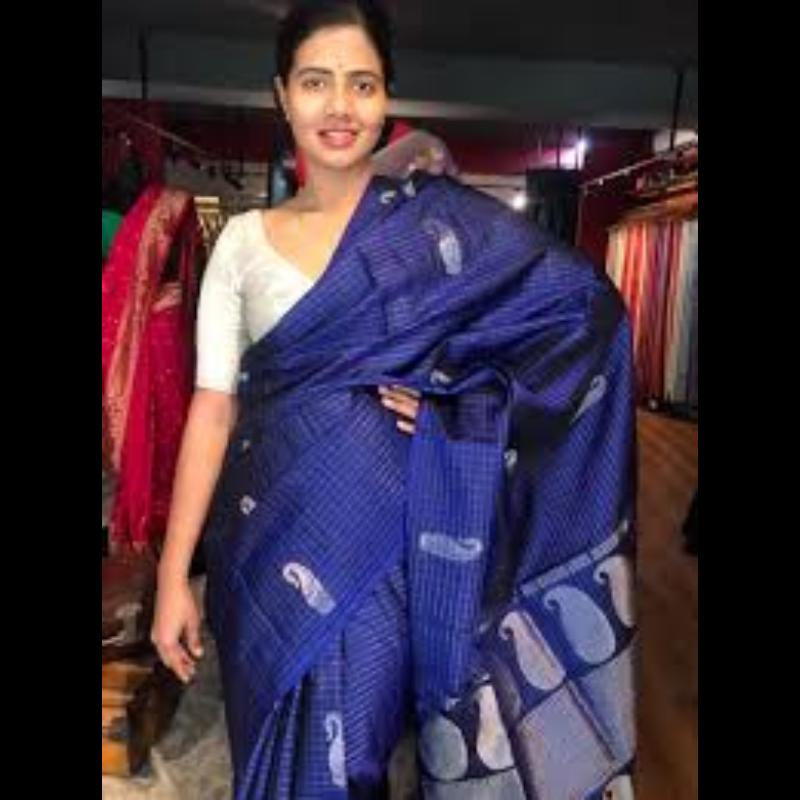Saree: (146, 178, 668, 799)
